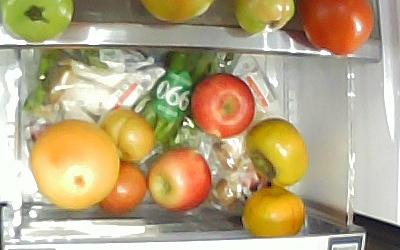apple: (190, 73, 253, 138), (148, 149, 212, 212)
grapefruit: (33, 120, 117, 210)
persimmon: (247, 118, 307, 188), (241, 187, 306, 237)
prune: (102, 109, 155, 162), (99, 161, 147, 215)
